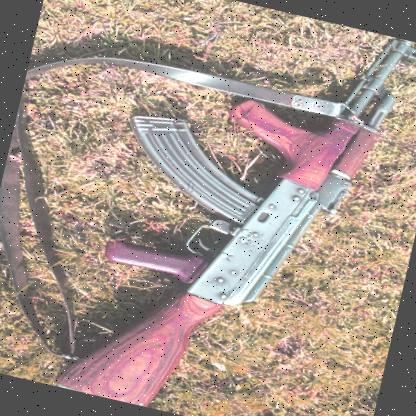rifle: (45, 0, 416, 416)
